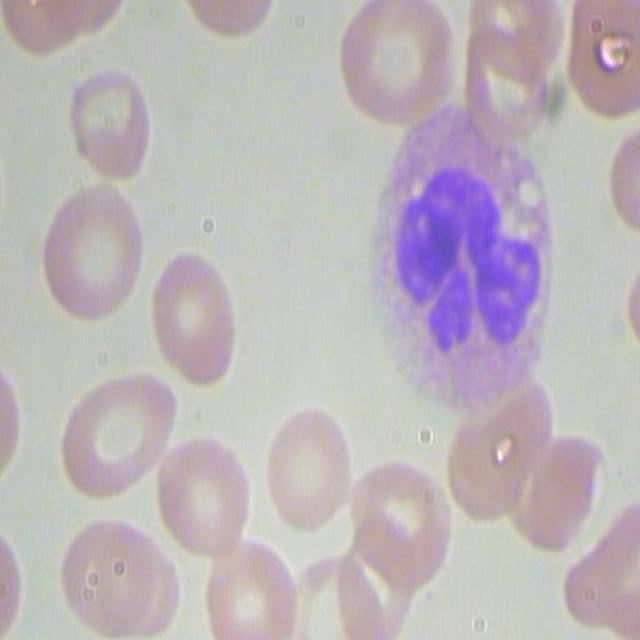RBC: (451, 376, 558, 528), (59, 368, 177, 502), (462, 1, 567, 151), (36, 179, 144, 324), (60, 517, 182, 640), (334, 0, 452, 127), (349, 461, 450, 590), (152, 245, 242, 388), (153, 435, 248, 561), (260, 406, 353, 534), (563, 503, 640, 638), (63, 68, 154, 180), (204, 534, 302, 638), (276, 554, 394, 640), (516, 431, 598, 544), (565, 0, 640, 117), (2, 0, 126, 54), (608, 120, 640, 243), (174, 0, 278, 36)
WBC: (374, 114, 556, 406)
